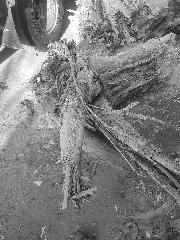organic: (36, 43, 180, 226)
